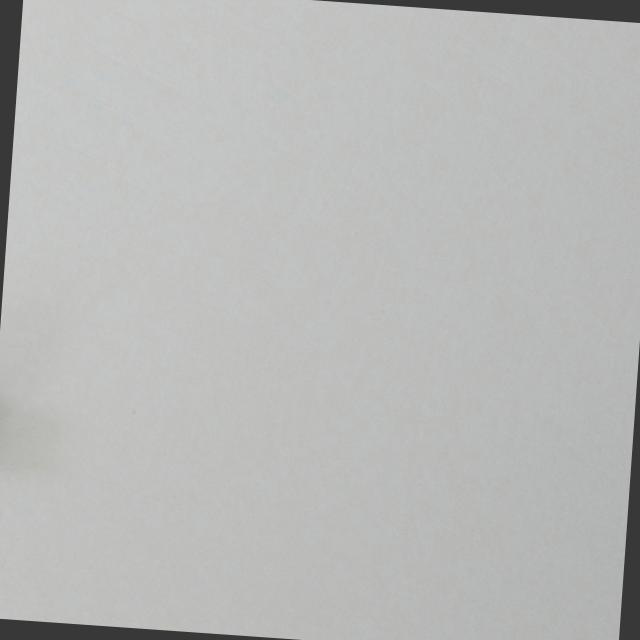dañado: (0, 396, 6, 488)
